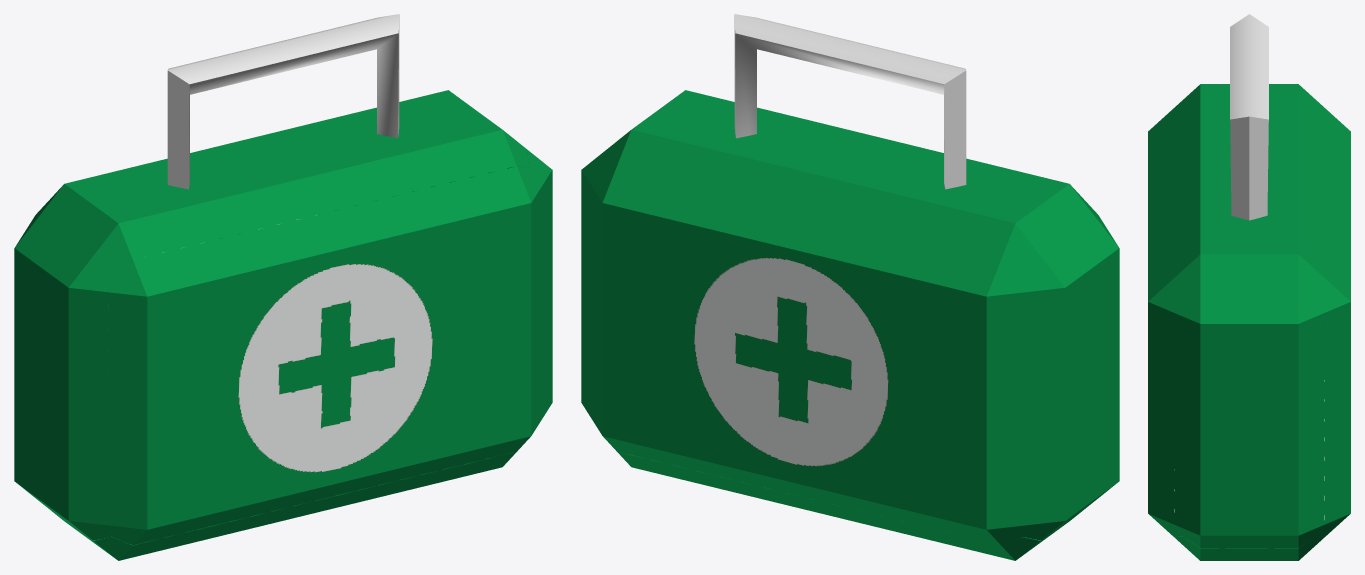
File: HealthKit.fbx
3 views of the same model, side by side, from view 1: azimuth 30°, elevation 25°; view 2: azimuth 150°, elevation 25°; view 3: azimuth 270°, elevation 25° (orthographic). The views are drawn at different scales.
Parts seen in each view (by area): view 1: BolsaMetal, Asa; view 2: BolsaMetal, Asa; view 3: BolsaMetal, Asa.
Boxes of the visible parts, x1,y1,x2,y2 form: BolsaMetal: (14,90,552,560); Asa: (167,14,399,189); BolsaMetal: (581,90,1119,560); Asa: (734,14,966,189); BolsaMetal: (1148,84,1350,560); Asa: (1230,14,1268,220).
Bounding box in the file's own units: 15 × 6 × 13.39.
